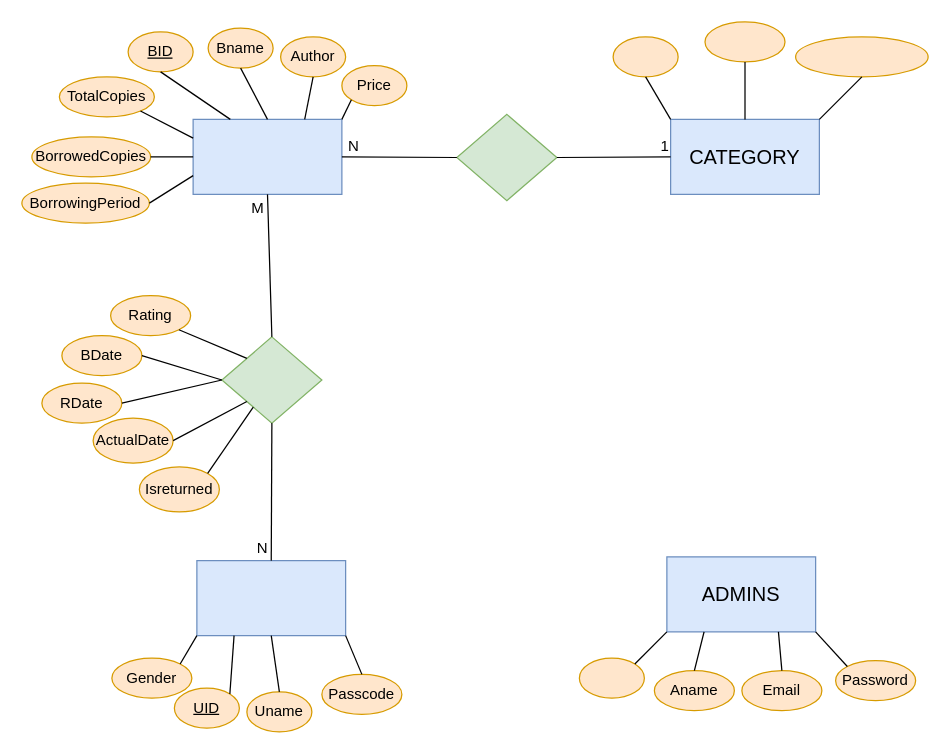
The diagram is 950 pixels wide and 754 high, and some of its shapes have lost their labels. The centre of each missing label's shape, as x and y in pixels:
AID: (611,677)
Belong: (506,157)
BOOK: (267,156)
Borrow: (271,379)
CID: (645,56)
Cname: (744,41)
NumberOfBooks: (861,56)
USER: (271,597)
